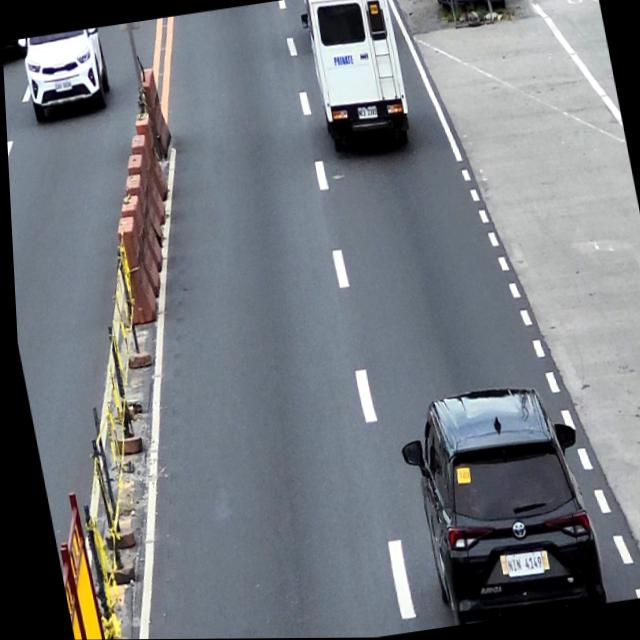Car: (386, 378, 605, 630), (297, 0, 417, 160), (17, 28, 115, 125)
License-Plate: (499, 551, 539, 578), (356, 106, 378, 121), (53, 79, 72, 93)
